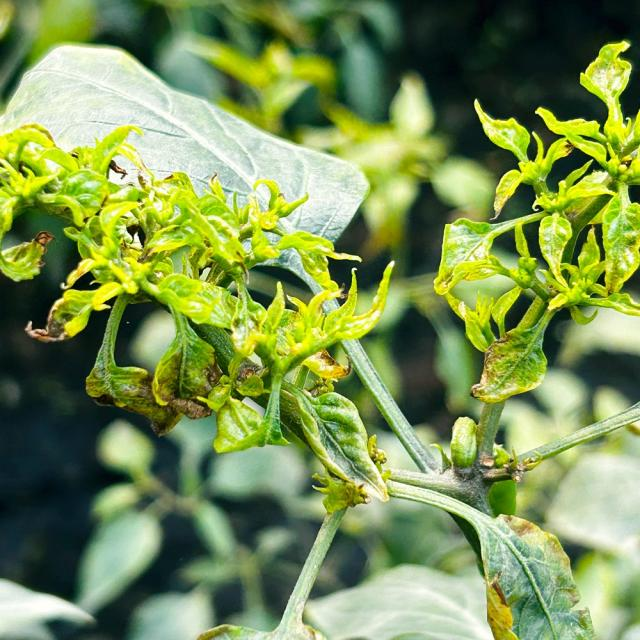Chilli_Leaf_Curl: (1, 36, 638, 637), (1, 119, 395, 460), (1, 41, 371, 276), (432, 38, 638, 404), (383, 470, 595, 638), (277, 381, 391, 511)
